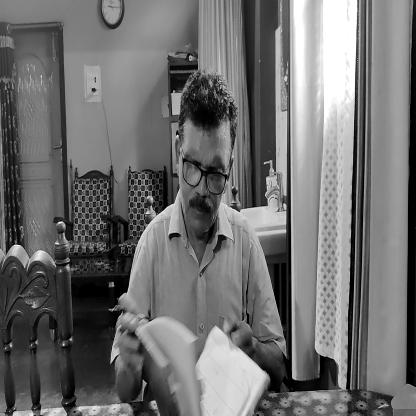Normal: (172, 69, 235, 238)
